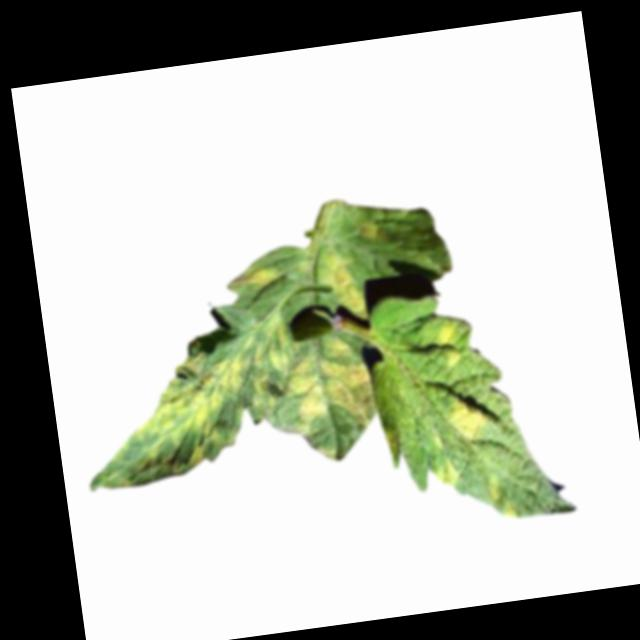Leaf_Mold: (70, 320, 292, 495), (277, 331, 379, 440), (313, 239, 371, 321), (440, 395, 494, 450), (226, 259, 281, 293), (434, 318, 467, 373), (487, 471, 520, 524), (429, 455, 459, 494), (356, 219, 378, 243)
